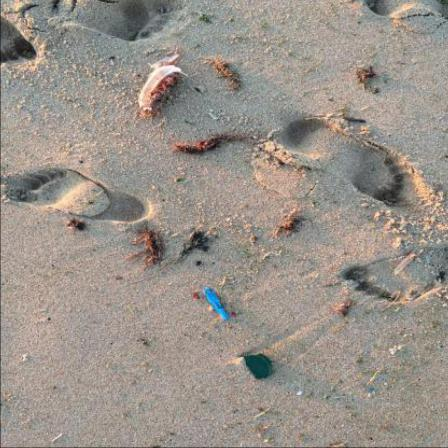Lid: (244, 355, 273, 381)
Other plastic: (138, 56, 190, 113), (204, 290, 230, 322)
